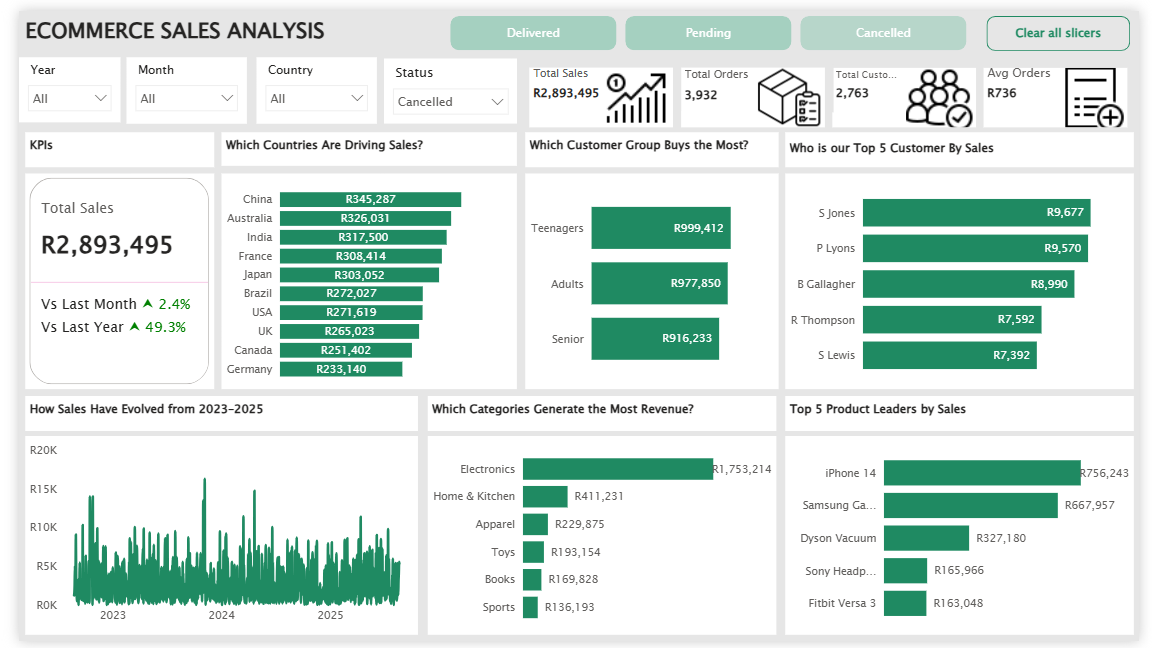

The dashboard page shown, as its layout file describes it:
{"tool":"powerbi","page":{"name":"Overview","canvas":[1280,720],"ordinal":0},"visuals":[{"type":"cardVisual","fields":{"Data":["My Measures.Total Sales","My Measures.Total Orders","My Measures.Total Customers","My Measures.Avg Order Values"]},"box":[577.9,53.1,702.1,74.8],"z":0,"group":"g1"},{"type":"barChart","fields":{"Category":["eCommerceData.country"],"Y":["My Measures.Total Sales"]},"box":[231.6,185.8,337.8,246.1],"z":0},{"type":"group","id":"g1","title":"Group 1","box":[577.9,53.1,702.1,74.8],"z":1000},{"type":"barChart","fields":{"Y":["My Measures.Total Sales"],"Category":["eCommerceData.category"]},"box":[466.9,486.2,398.1,226.8],"z":2000},{"type":"barChart","fields":{"Y":["My Measures.Total Sales"],"Category":["eCommerceData.product_name"]},"box":[875.9,486.2,398.1,226.8],"z":3000},{"type":"shape","box":[702.3,60.9,105.7,54.3],"z":3500,"group":"g1"},{"type":"shape","box":[1051.9,61.5,107.7,54.3],"z":4000,"group":"g1"},{"type":"barChart","fields":{"Y":["My Measures.Total Sales"],"Category":["eCommerceData.Full Name"]},"box":[875.9,185.8,398.1,246.1],"z":4000},{"type":"shape","box":[877.1,62.2,105.7,54.3],"z":4500,"group":"g1"},{"type":"lineChart","fields":{"Y":["My Measures.Total Sales"],"Category":["DateTable.Date"]},"box":[7.2,486.2,448.8,226.8],"z":5000},{"type":"slicer","fields":{"Values":["eCommerceData.country"]},"box":[271.4,53.1,137.5,76],"z":6000},{"type":"slicer","fields":{"Values":["DateTable.Year"]},"box":[0,53.1,115.8,74.8],"z":7000},{"type":"slicer","fields":{"Values":["DateTable.Month Name"]},"box":[123.1,53.1,137.5,76],"z":8000},{"type":"cardVisual","fields":{"Data":["My Measures.Total Sales"]},"box":[7.2,185.8,216,246.1],"z":9000},{"type":"textbox","box":[7.2,138.7,216,39.8],"z":10000},{"type":"textbox","box":[231.6,138.7,337.8,38.6],"z":11000},{"type":"textbox","box":[466.9,440.4,398.1,39.8],"z":12000},{"type":"textbox","box":[7.2,440.4,448.8,39.8],"z":13000},{"type":"textbox","box":[875.9,440.4,398.1,39.8],"z":14000},{"type":"textbox","box":[875.9,138.7,398.1,39.8],"z":15000},{"type":"clusteredBarChart","fields":{"Category":["eCommerceData.age_group"],"Y":["My Measures.Total Sales"]},"box":[577.9,185.8,289.5,246.1],"z":16000},{"type":"textbox","box":[577.9,138.7,289.5,39.8],"z":17000},{"type":"textbox","box":[7.2,0,435.5,54.3],"z":18000},{"type":"slicer","fields":{"Values":["eCommerceData.Group Status"]},"box":[417.4,54.3,152,74.8],"z":19000},{"type":"actionButton","box":[1106.3,6,164.1,39.8],"z":20000},{"type":"bookmarkNavigator","box":[493.4,6,591.2,39.8],"z":21000}]}

Visuals, with their boxes in screenshot pixels (x1, y1, x2, y2), scaled from the page's 1280x720 canvas onto the 1152x648 screenshot:
cardVisual - My Measures.Total Sales x My Measures.Total Orders: {"left": 520, "top": 48, "right": 1151, "bottom": 115}
barChart - eCommerceData.country x My Measures.Total Sales: {"left": 208, "top": 167, "right": 512, "bottom": 389}
"Group 1" group: {"left": 520, "top": 48, "right": 1151, "bottom": 115}
barChart - My Measures.Total Sales x eCommerceData.category: {"left": 420, "top": 438, "right": 778, "bottom": 642}
barChart - My Measures.Total Sales x eCommerceData.product_name: {"left": 788, "top": 438, "right": 1147, "bottom": 642}
shape: {"left": 632, "top": 55, "right": 727, "bottom": 104}
shape: {"left": 947, "top": 55, "right": 1044, "bottom": 104}
barChart - My Measures.Total Sales x eCommerceData.Full Name: {"left": 788, "top": 167, "right": 1147, "bottom": 389}
shape: {"left": 789, "top": 56, "right": 885, "bottom": 105}
lineChart - My Measures.Total Sales x DateTable.Date: {"left": 6, "top": 438, "right": 410, "bottom": 642}
slicer - eCommerceData.country: {"left": 244, "top": 48, "right": 368, "bottom": 116}
slicer - DateTable.Year: {"left": 0, "top": 48, "right": 104, "bottom": 115}
slicer - DateTable.Month Name: {"left": 111, "top": 48, "right": 235, "bottom": 116}
cardVisual - My Measures.Total Sales: {"left": 6, "top": 167, "right": 201, "bottom": 389}
textbox: {"left": 6, "top": 125, "right": 201, "bottom": 161}
textbox: {"left": 208, "top": 125, "right": 512, "bottom": 160}
textbox: {"left": 420, "top": 396, "right": 778, "bottom": 432}
textbox: {"left": 6, "top": 396, "right": 410, "bottom": 432}
textbox: {"left": 788, "top": 396, "right": 1147, "bottom": 432}
textbox: {"left": 788, "top": 125, "right": 1147, "bottom": 161}
clusteredBarChart - eCommerceData.age_group x My Measures.Total Sales: {"left": 520, "top": 167, "right": 781, "bottom": 389}
textbox: {"left": 520, "top": 125, "right": 781, "bottom": 161}
textbox: {"left": 6, "top": 0, "right": 398, "bottom": 49}
slicer - eCommerceData.Group Status: {"left": 376, "top": 49, "right": 512, "bottom": 116}
actionButton: {"left": 996, "top": 5, "right": 1143, "bottom": 41}
bookmarkNavigator: {"left": 444, "top": 5, "right": 976, "bottom": 41}
